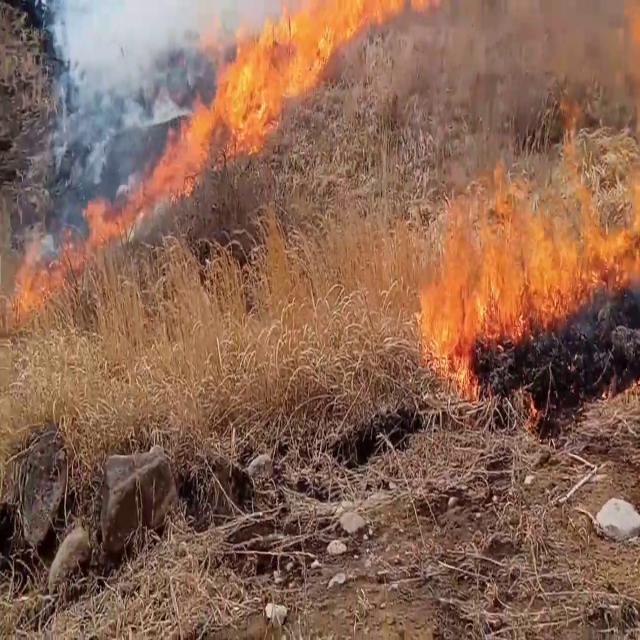Fire: (411, 123, 639, 384), (141, 0, 390, 204), (7, 180, 138, 321)
Smoke: (36, 0, 225, 140)
